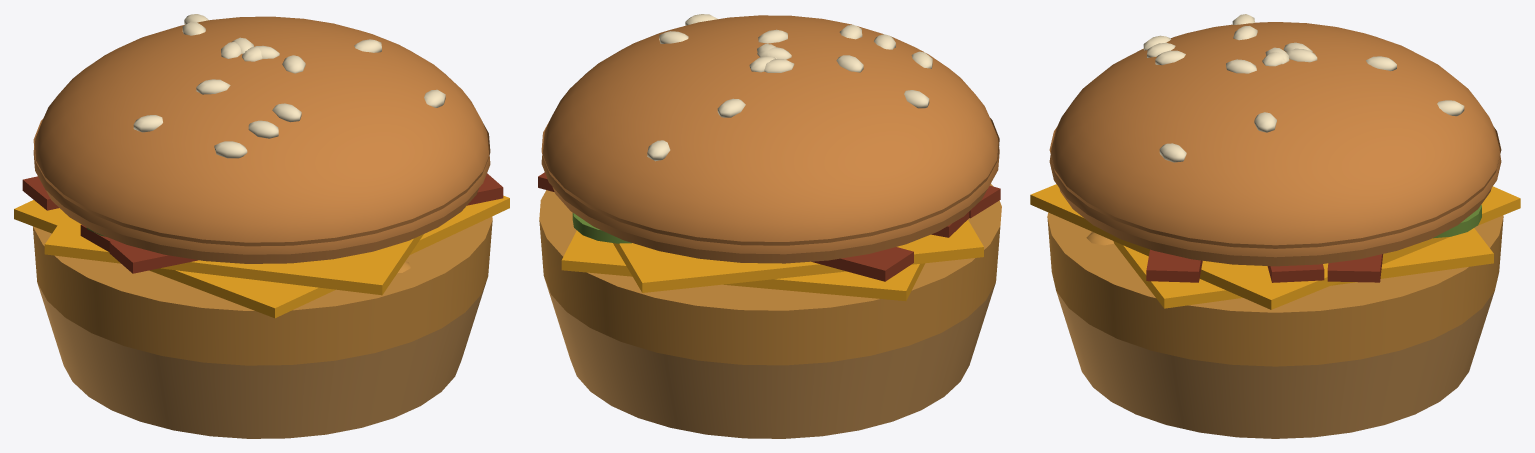
The model's file is burger-pollo-clasica.glb.
3 renders of one model, left to right at view 1: azimuth 30°, elevation 25°; view 2: azimuth 150°, elevation 25°; view 3: azimuth 270°, elevation 25°, orthographic.
Bounding box in the file's own units: 0.173 × 0.118 × 0.173.
